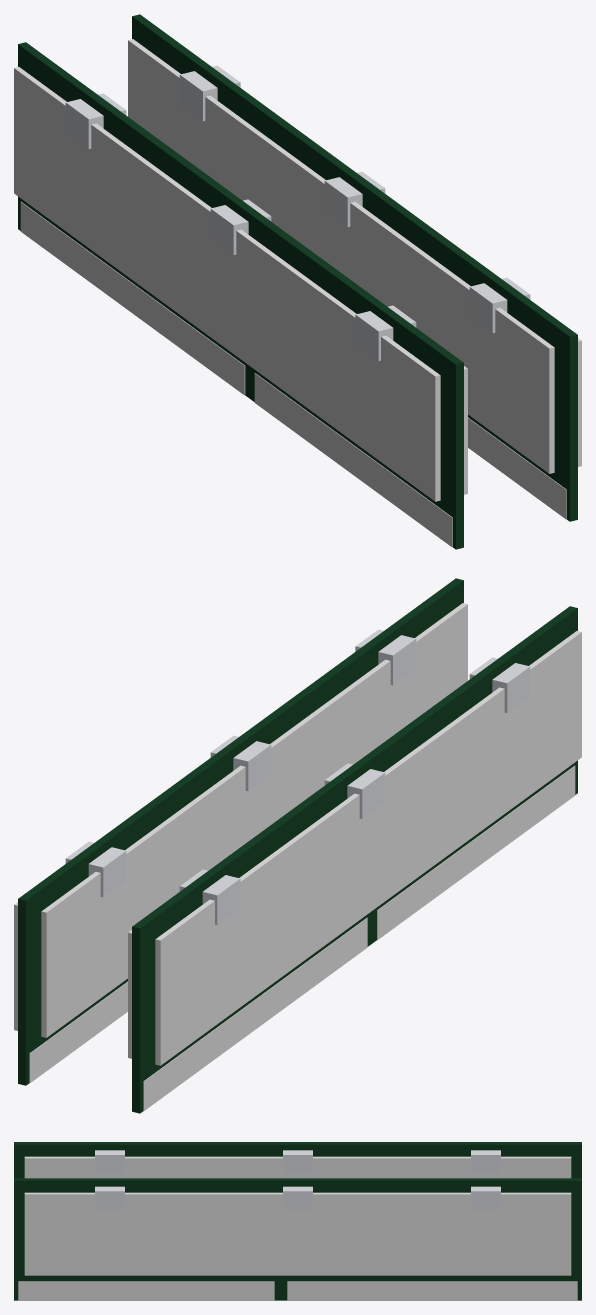
The model's file is hw_ram_ddr3_16gb.glb.
3 views of the same model, one above another, from view 1: azimuth 30°, elevation 25°; view 2: azimuth 150°, elevation 25°; view 3: azimuth 270°, elevation 25° (orthographic). The views are drawn at different scales.
Visible parts, largest first — view 1: Stick_1, Body; view 2: Stick_1, Body; view 3: Body, Stick_1.
Part boxes in pixels (box(x1,y1,x2,y2)): Stick_1: box(14, 42, 467, 549); Body: box(128, 14, 581, 521); Stick_1: box(128, 606, 581, 1113); Body: box(14, 578, 467, 1085); Body: box(14, 1178, 581, 1300); Stick_1: box(14, 1142, 581, 1178).
Size of the model in its own units: 0.0266 by 0.031 by 0.133.
